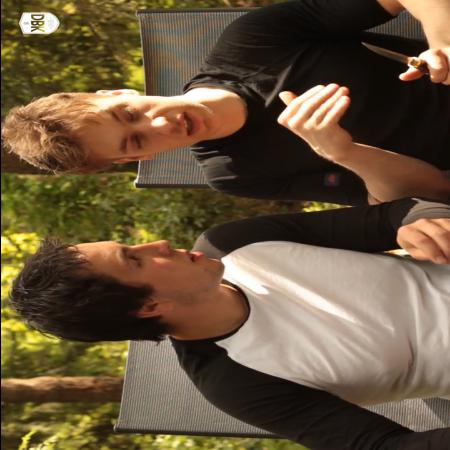long weapon: (350, 36, 450, 90)
